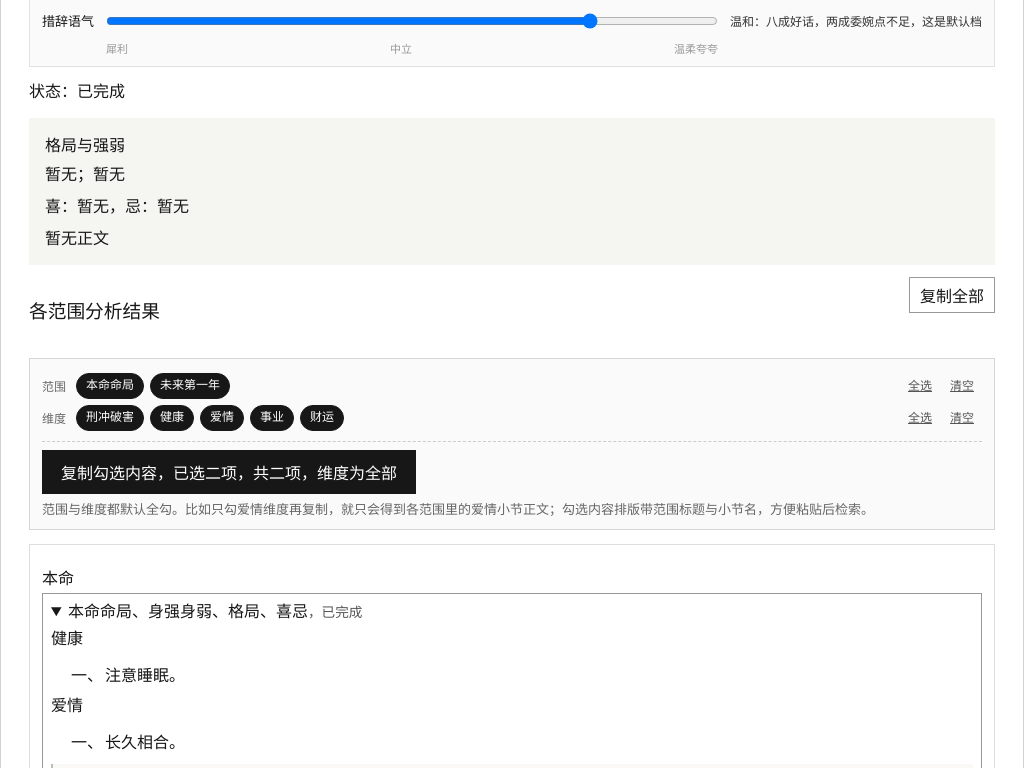
Test: 详情页复制面板：全选/清空要把整排恢复到默认 › 范围行「清空」取消全部范围，「全选」再把它们放回来
(page scrolled)
Check: the button "复制勾选内容" is shown, box [42,450,416,494]
Click the 1st button "清空".
click(962, 385)  # box [942,373,982,397]
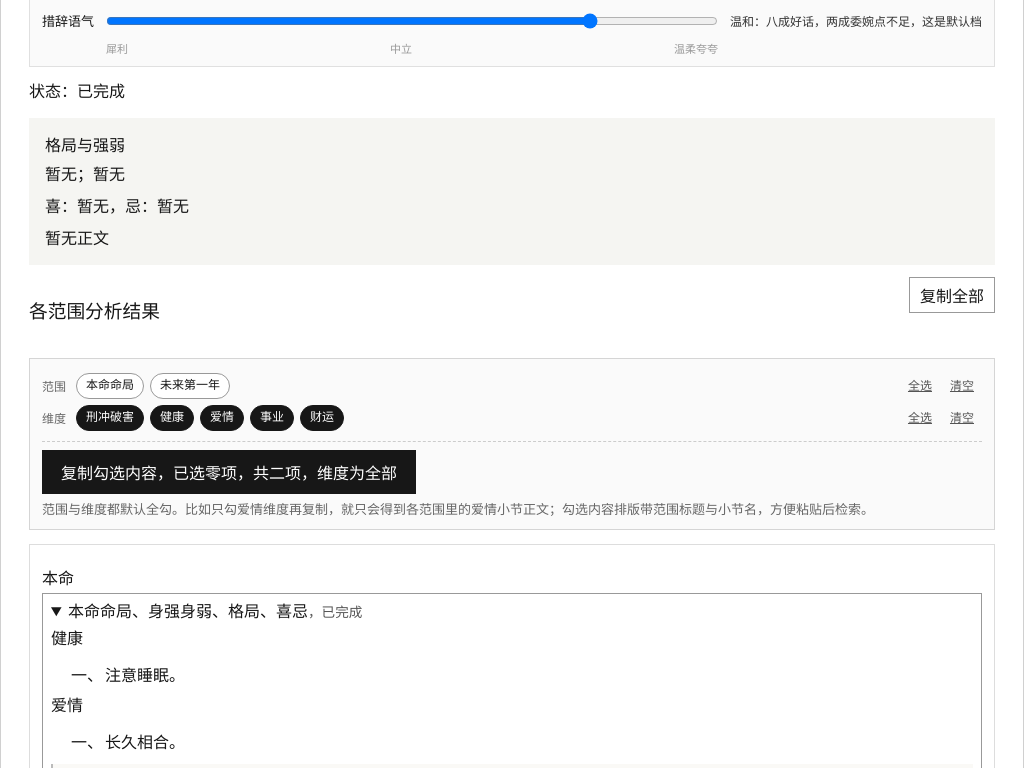
Check: the button "复制勾选内容" shows "已选零项", box [42,450,416,494]
Click the 1st button "全选".
click(920, 385)  # box [900,373,940,397]
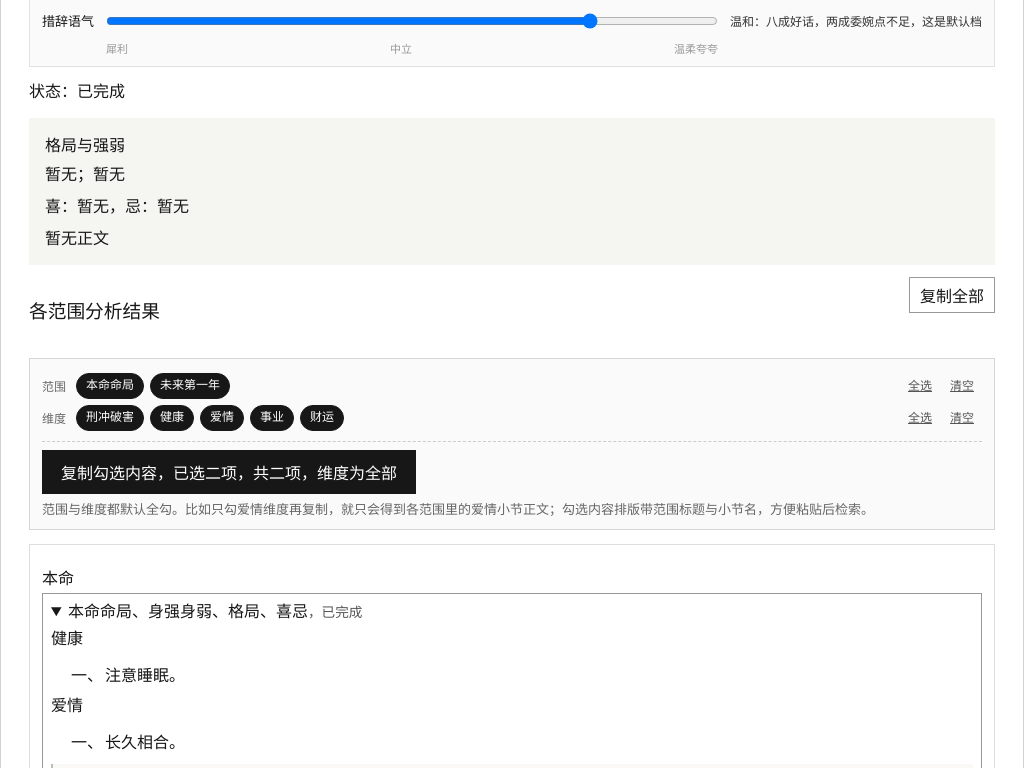
Check: the button "复制勾选内容" shows "已选二项", box [42,450,416,494]
